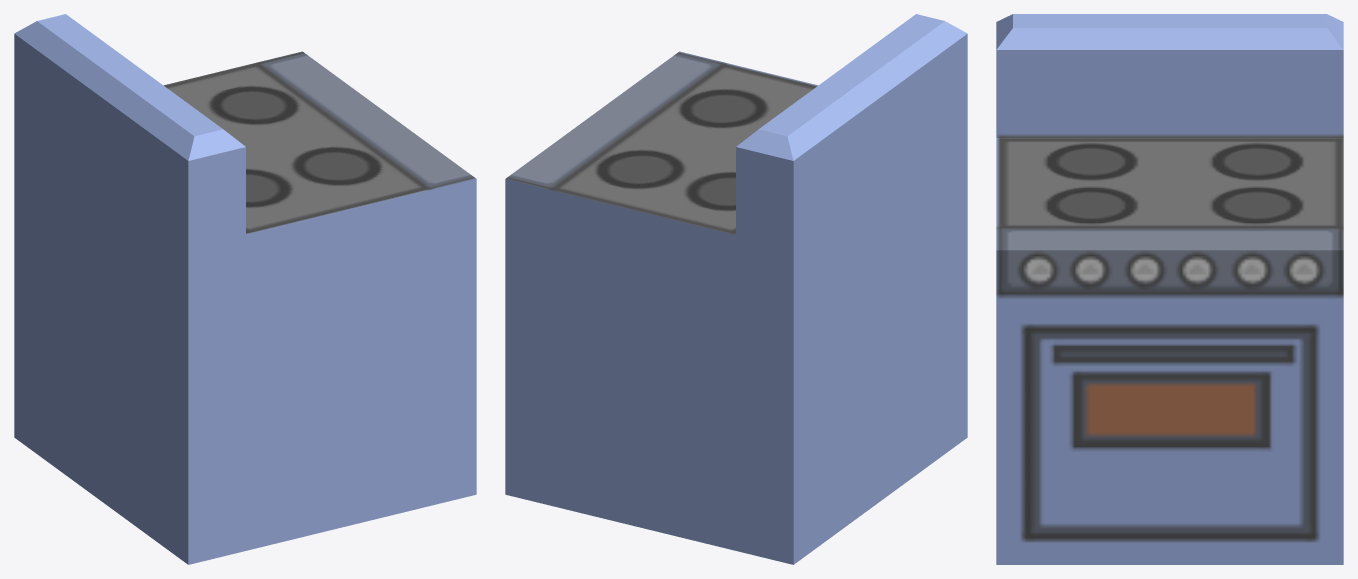
File: Oven_Kitchen_01.fbx
3 renders of one model, left to right at view 1: azimuth 30°, elevation 25°; view 2: azimuth 150°, elevation 25°; view 3: azimuth 270°, elevation 25°, orthographic.
Visible parts, largest first — view 1: Oven_01; view 2: Oven_01; view 3: Oven_01.
Boxes of the visible parts, x1,y1,x2,y2 form: Oven_01: (14, 14, 476, 564); Oven_01: (505, 14, 967, 564); Oven_01: (996, 14, 1343, 564).
Bounding box in the file's own units: 2.87 × 3.98 × 3.
